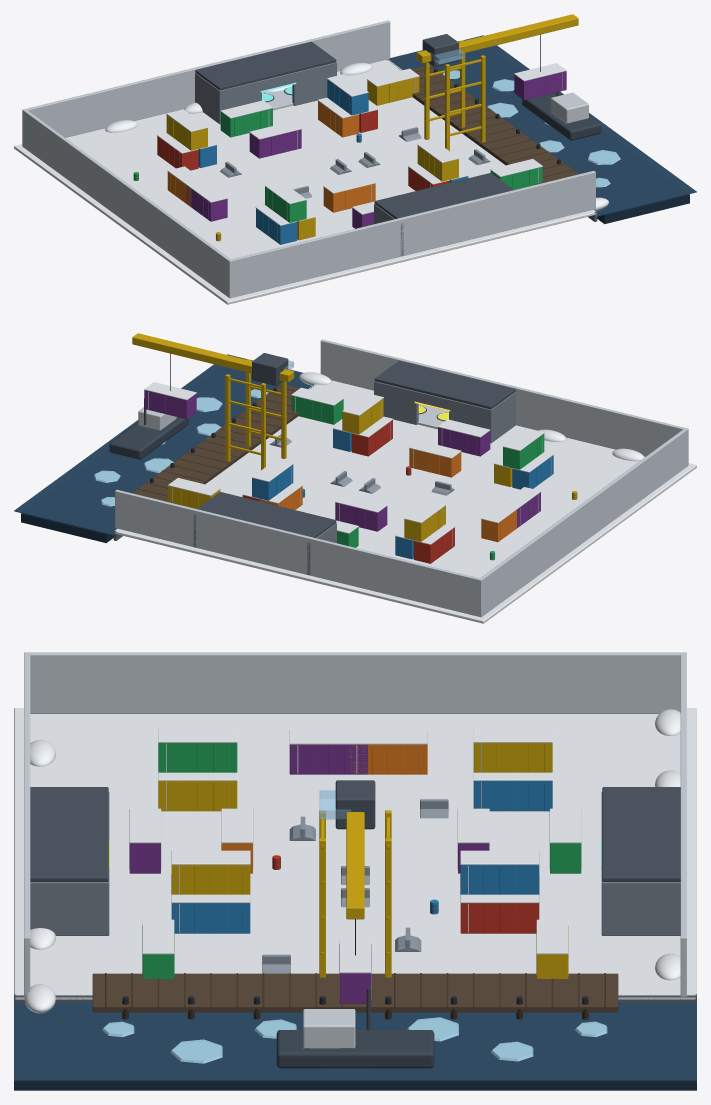
Rendered from frost_harbor.glb.
The picture shows the model from 3 angles, top to bottom: view 1: azimuth 30°, elevation 25°; view 2: azimuth 150°, elevation 25°; view 3: azimuth 270°, elevation 25°; orthographic projection. The views are drawn at different scales.
Parts seen in each view (by area): view 1: ground, fence_south, sea, fence_north, fence_west, pier_deck, spawn_B_roof, spawn_A_roof, crane_boom, boat_hull, spawn_B_front_R, container_B4 (+32 smaller); view 2: ground, fence_north, sea, fence_south, fence_west, pier_deck, spawn_A_roof, spawn_B_roof, crane_boom, boat_hull, spawn_A_front_R, container_hanging (+32 smaller); view 3: ground, fence_west, sea, pier_deck, spawn_A_roof, spawn_B_roof, sea_floor, boat_hull, spawn_B_side_R, spawn_A_side_R, container_A9, fence_north (+42 smaller).
Part boxes in pixels (bbox=[...]): ground: bbox=[14, 59, 596, 304]; fence_south: bbox=[227, 170, 595, 298]; sea: bbox=[388, 35, 696, 216]; fence_north: bbox=[22, 20, 390, 147]; fence_west: bbox=[22, 109, 232, 297]; pier_deck: bbox=[411, 65, 578, 184]; spawn_B_roof: bbox=[195, 41, 336, 90]; spawn_A_roof: bbox=[374, 173, 513, 218]; crane_boom: bbox=[416, 14, 578, 63]; boat_hull: bbox=[522, 92, 601, 140]; spawn_B_front_R: bbox=[292, 63, 336, 105]; container_B4: bbox=[249, 129, 301, 158]; ground: bbox=[114, 380, 696, 623]; fence_north: bbox=[115, 489, 483, 617]; sea: bbox=[14, 354, 311, 535]; fence_south: bbox=[320, 339, 688, 465]; fence_west: bbox=[478, 428, 688, 616]; pier_deck: bbox=[132, 384, 299, 503]; spawn_A_roof: bbox=[374, 360, 515, 409]; spawn_B_roof: bbox=[197, 492, 336, 537]; crane_boom: bbox=[132, 333, 294, 382]; boat_hull: bbox=[109, 417, 188, 459]; spawn_A_front_R: bbox=[374, 382, 418, 424]; container_hanging: bbox=[144, 390, 196, 419]; ground: bbox=[14, 708, 696, 999]; fence_west: bbox=[24, 652, 686, 713]; sea: bbox=[14, 1002, 696, 1081]; pier_deck: bbox=[92, 973, 618, 1012]; spawn_A_roof: bbox=[30, 787, 108, 881]; spawn_B_roof: bbox=[602, 787, 680, 881]; sea_floor: bbox=[14, 1081, 696, 1090]; boat_hull: bbox=[276, 1030, 434, 1068]; spawn_B_side_R: bbox=[601, 881, 680, 935]; spawn_A_side_R: bbox=[30, 881, 109, 935]; container_A9: bbox=[289, 744, 367, 774]; fence_north: bbox=[680, 652, 686, 996].
Size of the model in its own units: 66 by 16.2 by 52.
